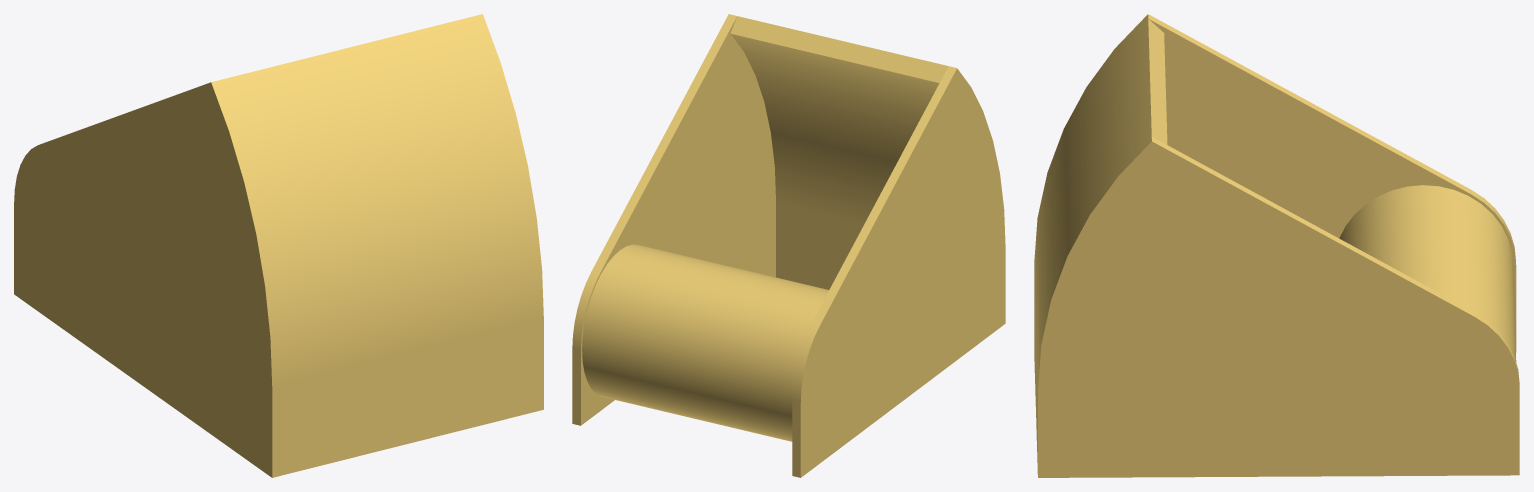
The picture shows the model from 3 angles, left to right: view 1: azimuth 30°, elevation 25°; view 2: azimuth 150°, elevation 25°; view 3: azimuth 270°, elevation 25°; orthographic projection. The views are drawn at different scales.
Parts seen in each view (by area): view 1: Fixed Hood Shooter; view 2: Fixed Hood Shooter; view 3: Fixed Hood Shooter.
Part boxes in pixels (<box>): Fixed Hood Shooter: <box>14,14,543,477</box>; Fixed Hood Shooter: <box>572,14,1005,477</box>; Fixed Hood Shooter: <box>1034,14,1519,477</box>.
Bounding box in the file's own units: 0.1736 × 0.2093 × 0.2742.
